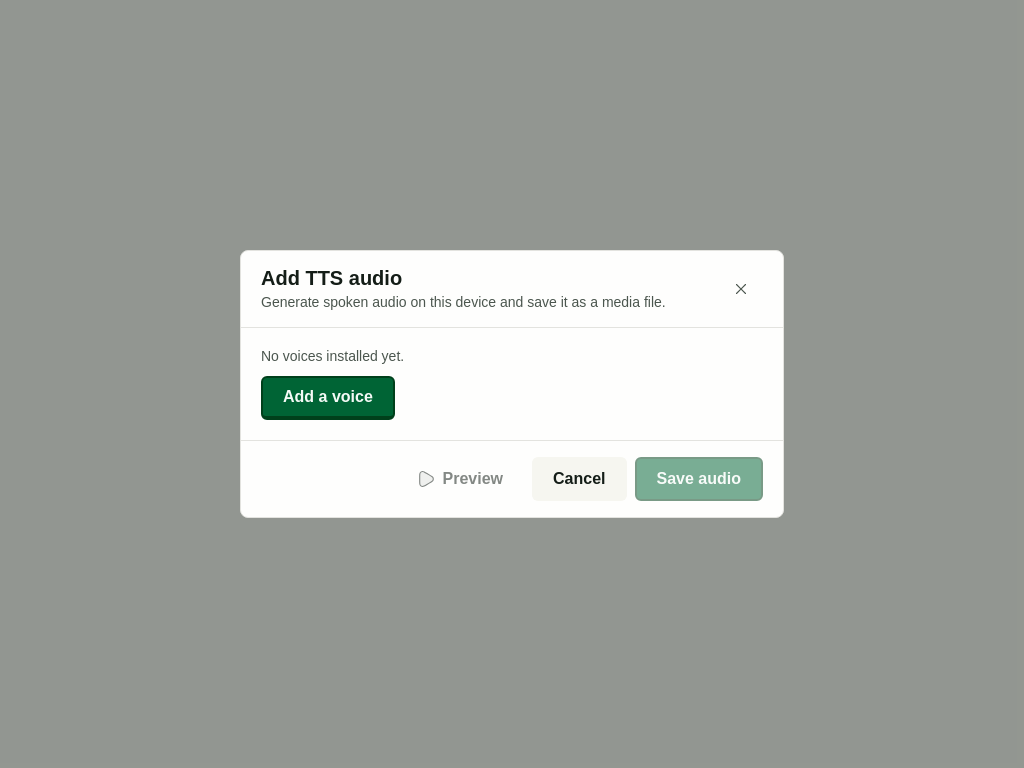
it: TtsDialog › offers voice management when no voices are installed
Expected: the dialog is shown, x1=240 y1=250 x2=784 y2=518
Expected: the text "No voices installed yet." is shown, x1=261 y1=348 x2=404 y2=364
Click the button "Add a voice" at (328, 398), box x1=261 y1=376 x2=395 y2=420
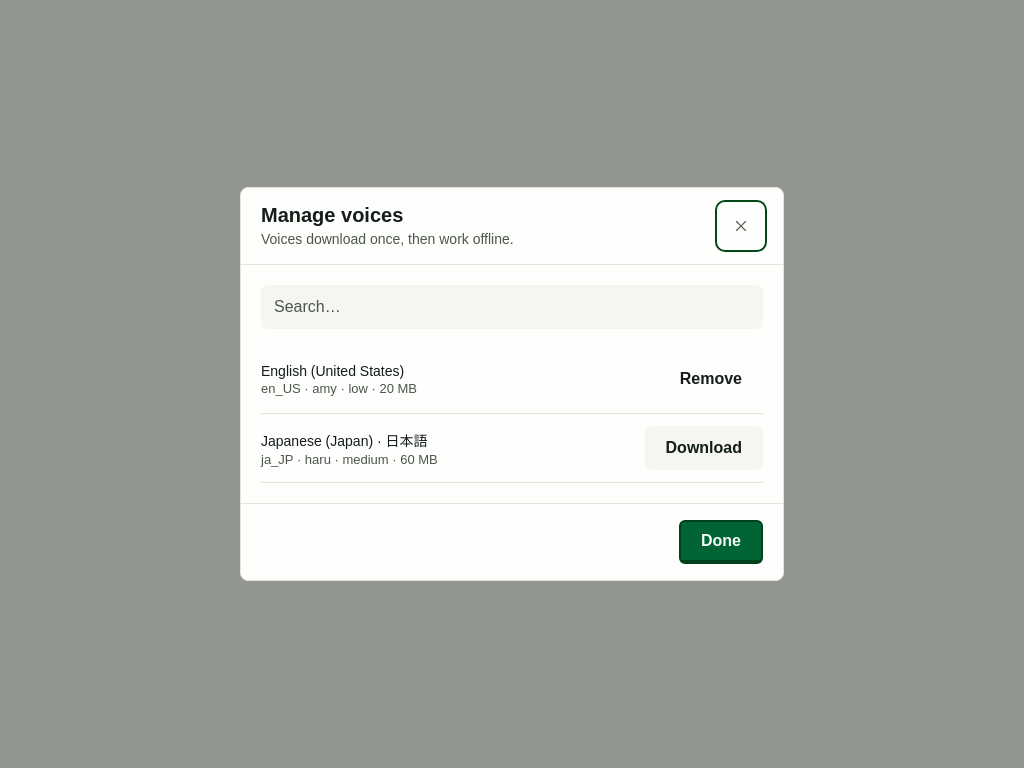
Result: the text "Voices download once, then work offline." is shown at x1=261 y1=231 x2=514 y2=247
